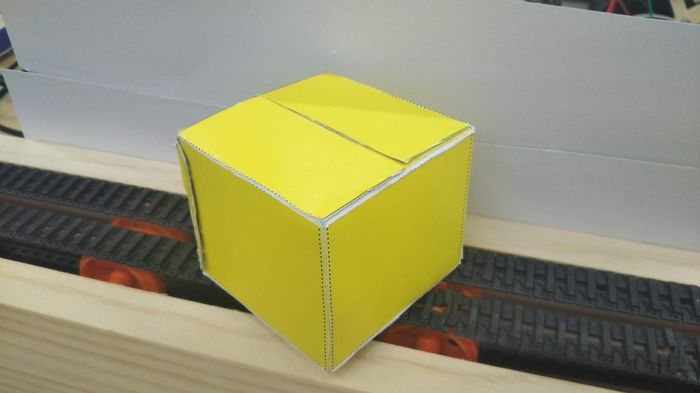box4: (174, 67, 475, 374)
